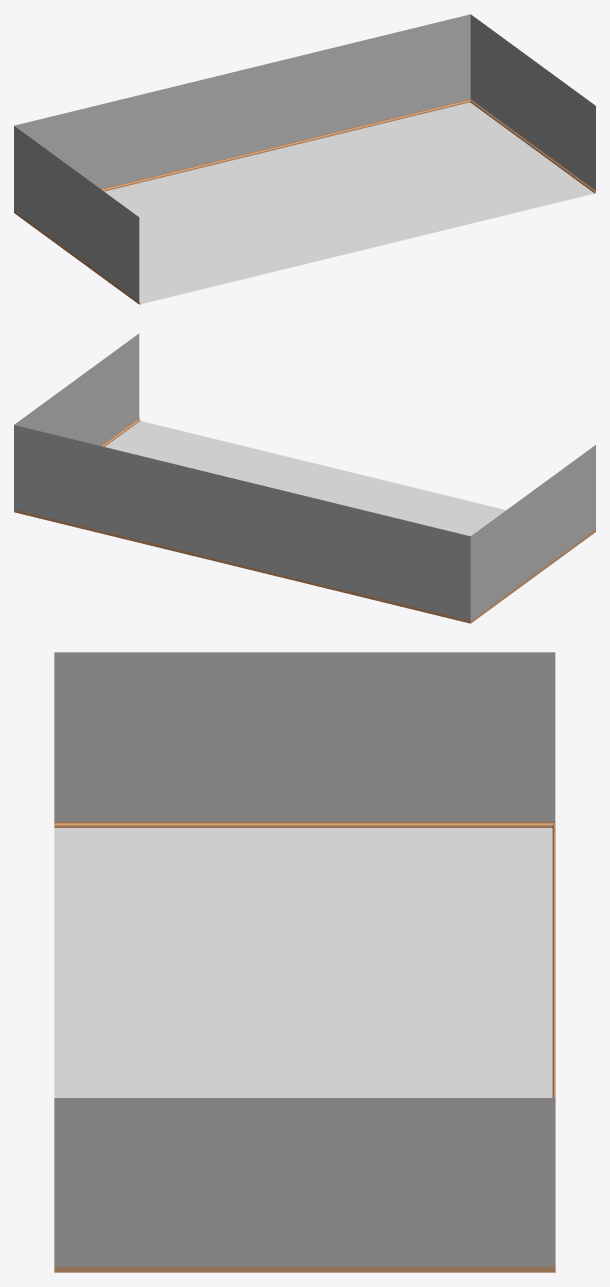
File: Breakroom.fbx
3 views of the same model, one above another, from view 1: azimuth 30°, elevation 25°; view 2: azimuth 150°, elevation 25°; view 3: azimuth 270°, elevation 25° (orthographic). The views are drawn at different scales.
Parts seen in each view (by area): view 1: Breakroom, Trimming Breakroom; view 2: Breakroom, Trimming Breakroom; view 3: Breakroom, Trimming Breakroom.
Boxes of the visible parts, bbox=[...] form: Breakroom: bbox=[14, 14, 595, 304]; Trimming Breakroom: bbox=[14, 99, 595, 304]; Breakroom: bbox=[14, 333, 595, 620]; Trimming Breakroom: bbox=[14, 418, 595, 623]; Breakroom: bbox=[54, 652, 555, 1267]; Trimming Breakroom: bbox=[54, 821, 555, 1272].
Size of the model in its own units: 3285 by 600 by 1561.
